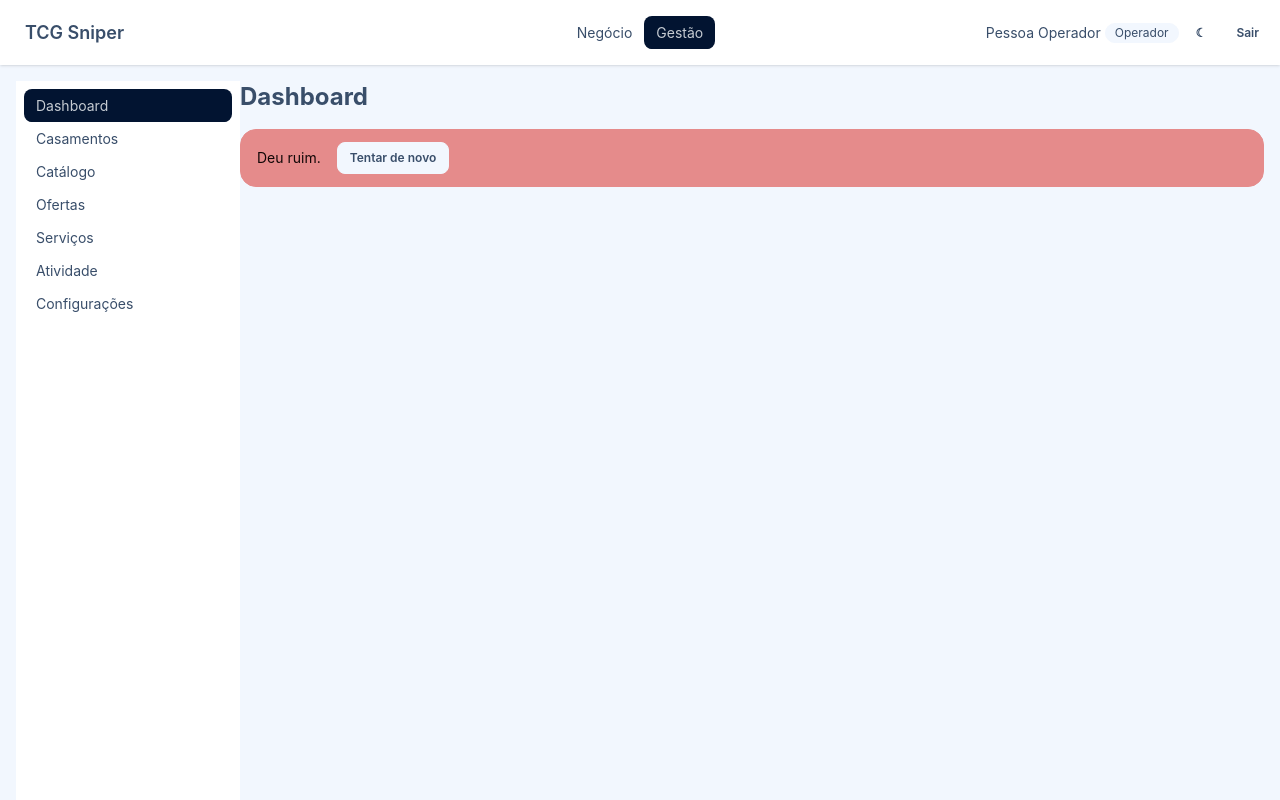
Test: Dashboard da gestão › primeira carga com erro mostra alerta e Tentar de novo recarrega
This screenshot has width=1280, height=800.
Check: the message shows "Deu ruim.", box [257, 149, 321, 166]
Click the button "Tentar de novo".
click(393, 158)  # box [337, 142, 449, 174]
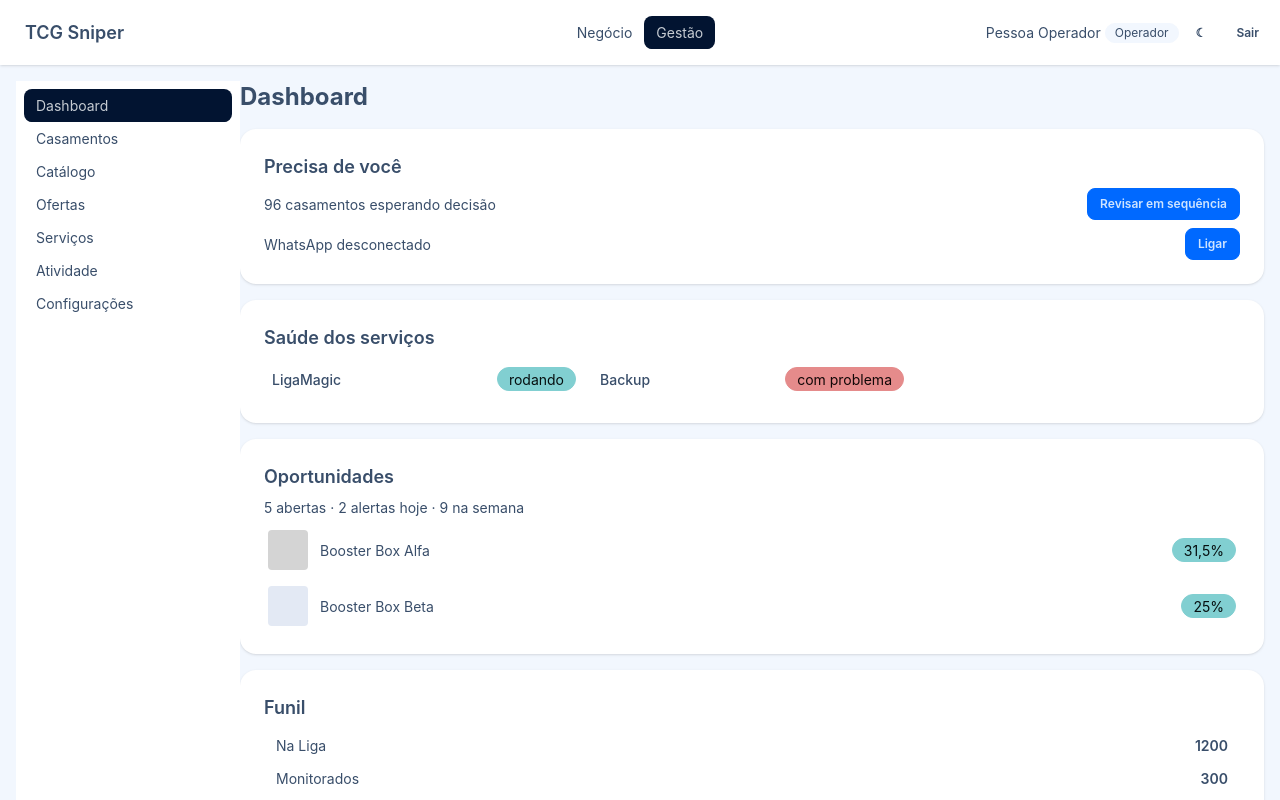
Check: the text "LigaMagic" is shown, box [272, 368, 341, 390]
Check: the message "Deu ruim. Tentar de novo" is gone
